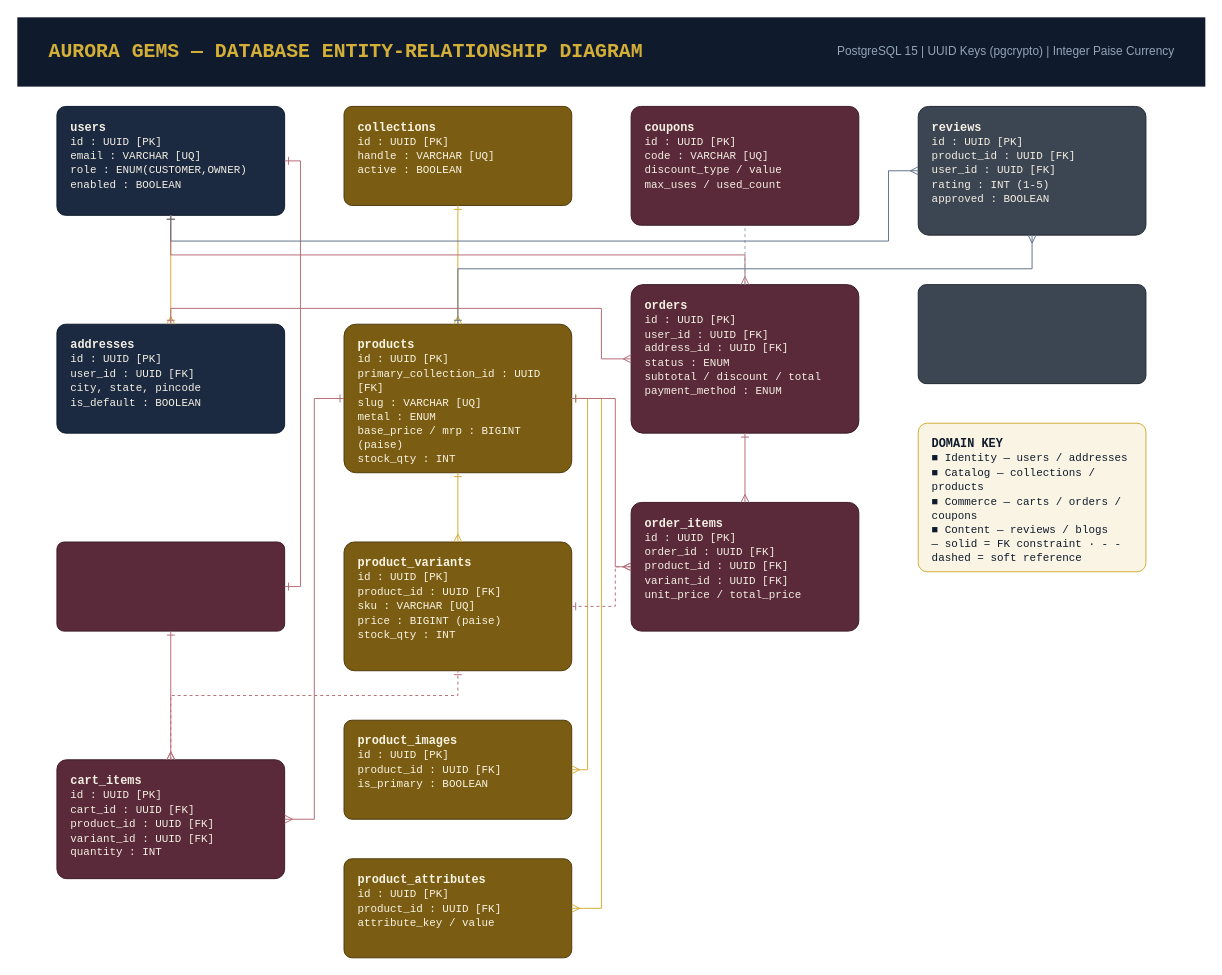
Image size: 1222x975. Some labels were removed from this diagram. Here are the shapes that lost their labels. From the top down, the box of each, then its label:
(917, 284, 1146, 384): blogs id : UUID [PK] slug : VARCHAR [UQ] published_at : TIMESTAMPTZ
(56, 541, 285, 631): carts id : UUID [PK] user_id : UUID [FK, UQ]
